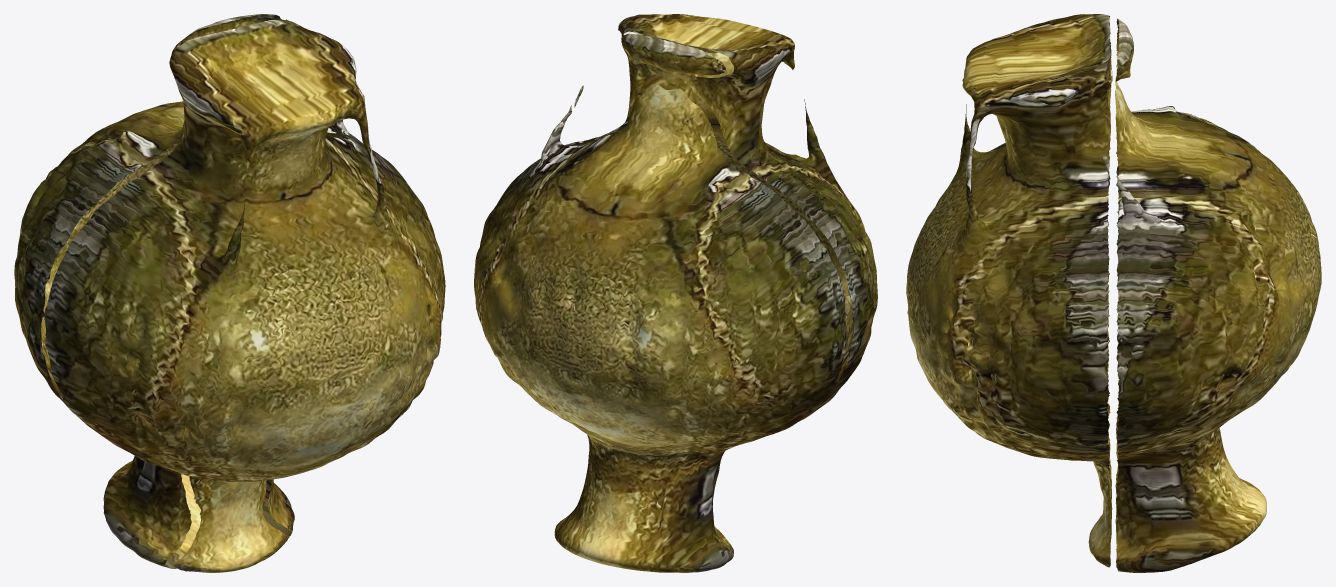
The model's file is kfl-2247.glb.
3 renders of one model, left to right at view 1: azimuth 30°, elevation 25°; view 2: azimuth 150°, elevation 25°; view 3: azimuth 270°, elevation 25°, orthographic. The views are drawn at different scales.
Visible parts, largest first — view 1: geometry_0; view 2: geometry_0; view 3: geometry_0.
Part boxes in pixels (x1,y1,x2,y2): geometry_0: [14, 14, 445, 572]; geometry_0: [474, 14, 877, 572]; geometry_0: [906, 14, 1321, 572].
Size of the model in its own units: 0.7236 by 0.9971 by 0.7264.
Materials: 1 (1 with a texture image).
